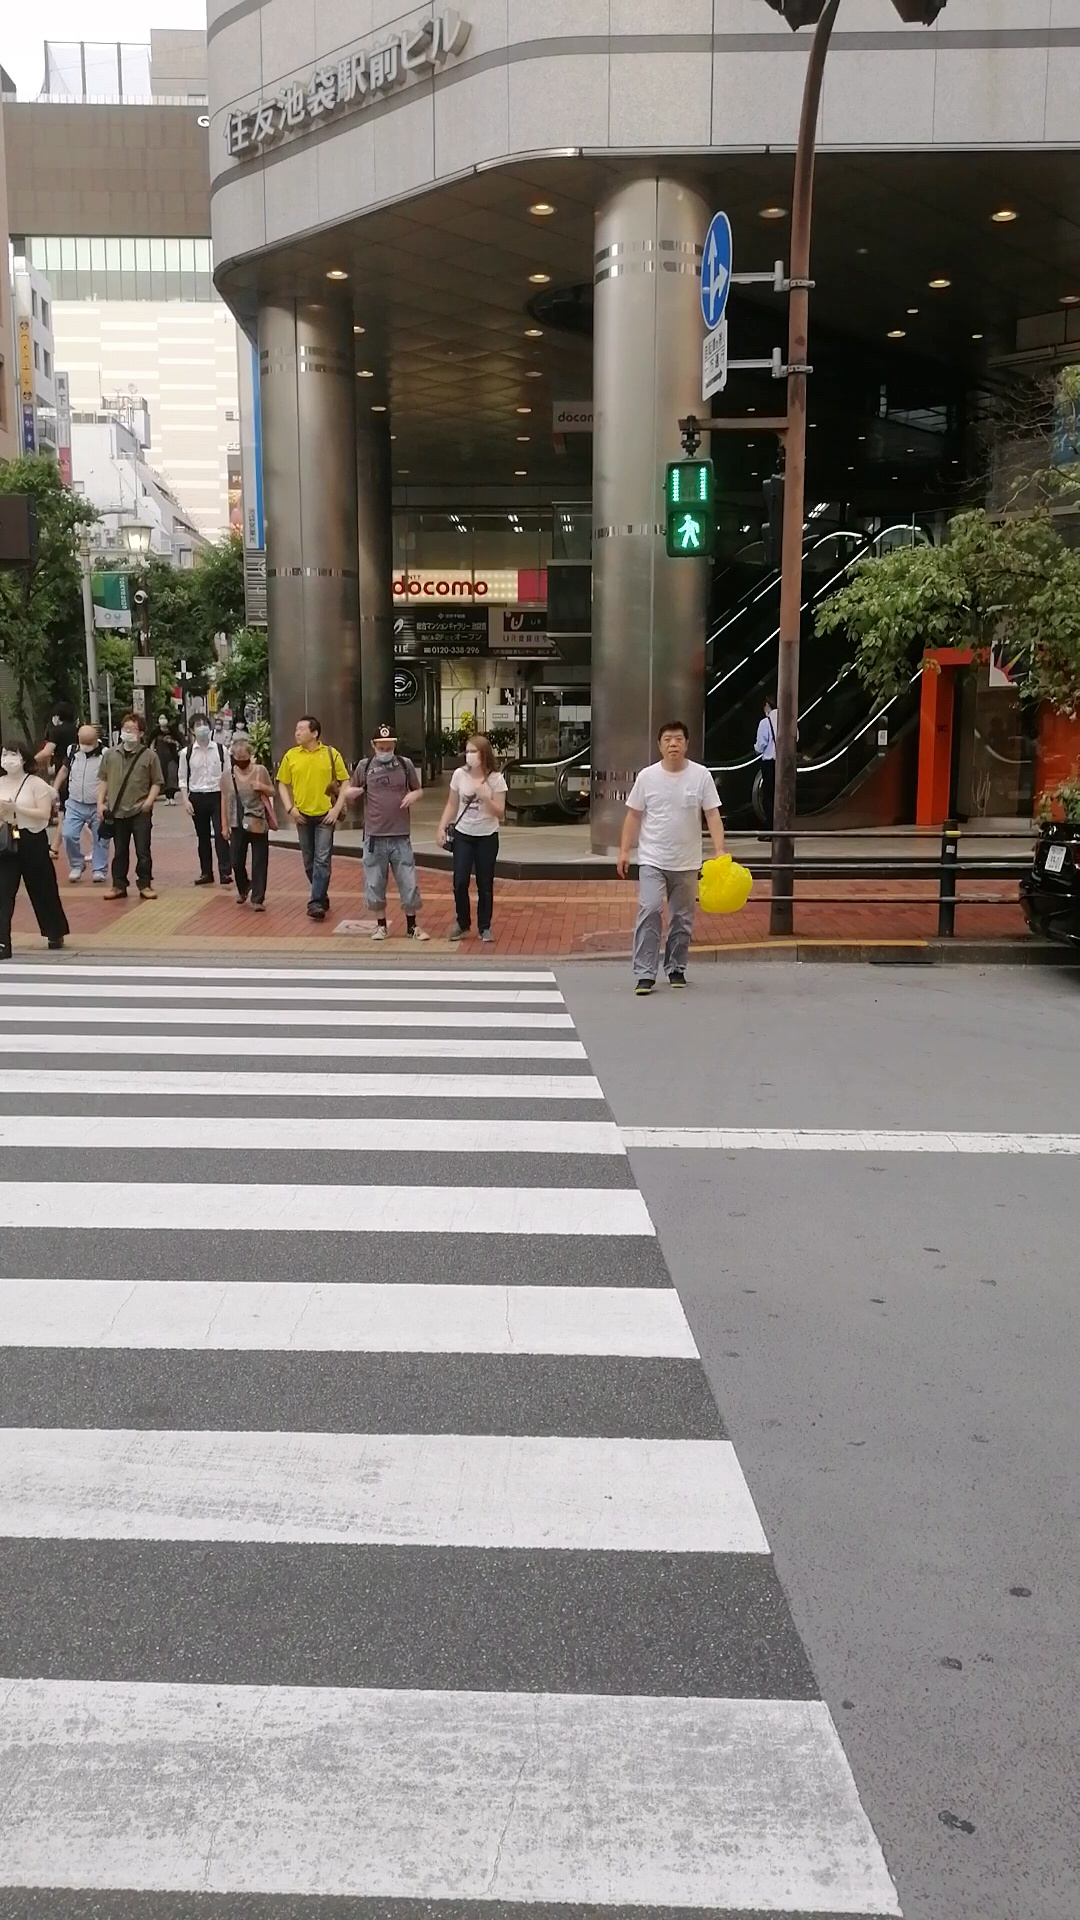green: (666, 459, 713, 558)
